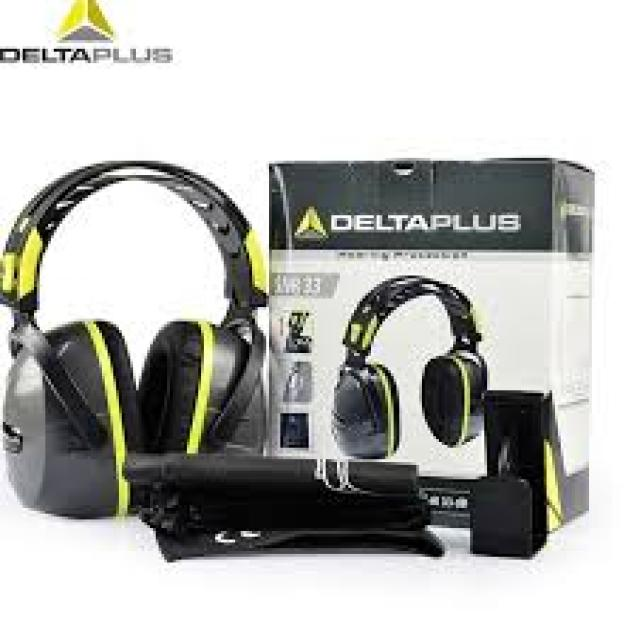Ear-Protection: (0, 312, 130, 519), (152, 323, 265, 502), (326, 359, 402, 459), (445, 347, 487, 442)
